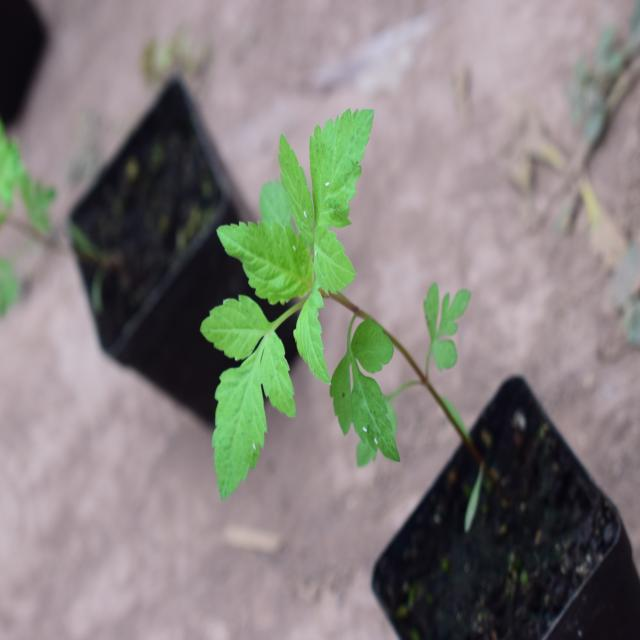Bidens pilosa: (209, 104, 477, 498)
